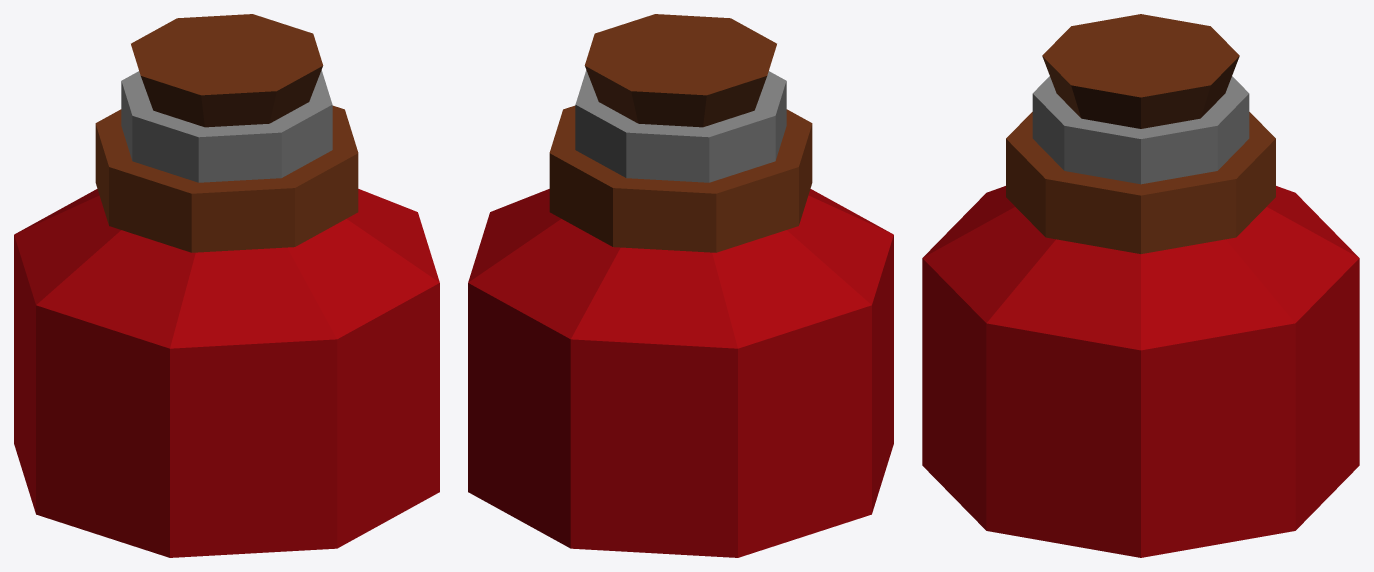
The model's file is potion_type_04.fbx.
The picture shows the model from 3 angles, left to right: view 1: azimuth 30°, elevation 25°; view 2: azimuth 150°, elevation 25°; view 3: azimuth 270°, elevation 25°; orthographic projection.
Parts seen in each view (by area): view 1: potion_type_04; view 2: potion_type_04; view 3: potion_type_04.
Boxes of the visible parts, <box> form: potion_type_04: <box>14,14,439,557</box>; potion_type_04: <box>468,14,893,557</box>; potion_type_04: <box>922,14,1359,557</box>.
Bounding box in the file's own units: 8.82 × 9.12 × 8.82.
